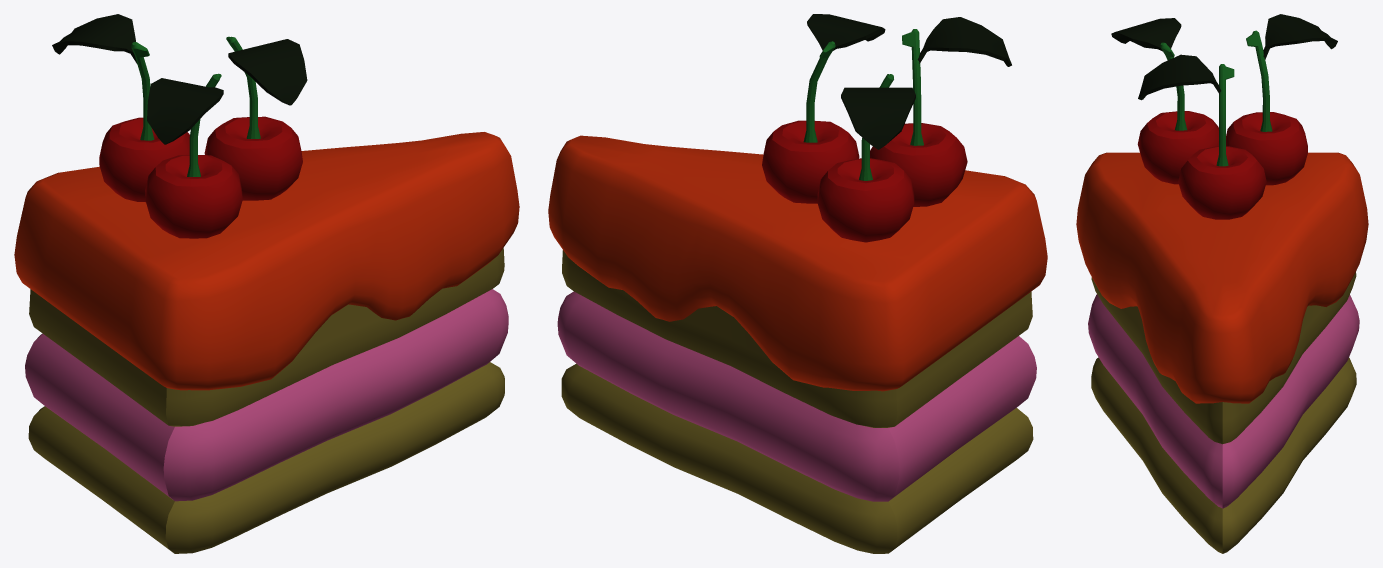
Rendered from Cake_1.FBX.
The picture shows the model from 3 angles, left to right: view 1: azimuth 30°, elevation 25°; view 2: azimuth 150°, elevation 25°; view 3: azimuth 270°, elevation 25°; orthographic projection. The views are drawn at different scales.
Parts seen in each view (by area): view 1: Cake_1; view 2: Cake_1; view 3: Cake_1.
Part boxes in pixels (x1,y1,x2,y2): Cake_1: (14,14,519,553); Cake_1: (548,14,1047,553); Cake_1: (1076,14,1368,553).
Bounding box in the file's own units: 1061 × 724 × 1043.
